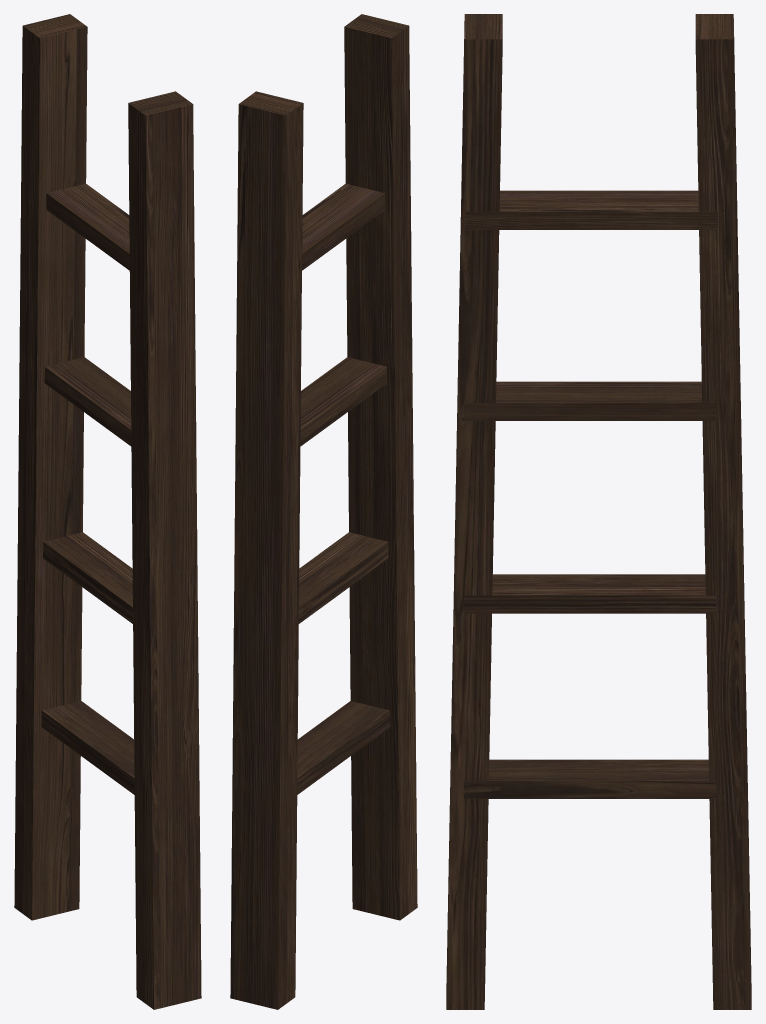
The model's file is F_Ladder_01.fbx.
3 renders of one model, left to right at view 1: azimuth 30°, elevation 25°; view 2: azimuth 150°, elevation 25°; view 3: azimuth 270°, elevation 25°, orthographic. The views are drawn at different scales.
Parts seen in each view (by area): view 1: F_Ladder_01; view 2: F_Ladder_01; view 3: F_Ladder_01.
Part boxes in pixels (<box>): F_Ladder_01: <box>14,14,201,1009</box>; F_Ladder_01: <box>230,14,417,1009</box>; F_Ladder_01: <box>446,14,751,1009</box>.
Bounding box in the file's own units: 11.36 × 203 × 57.83.
1 material, 1 textured.
